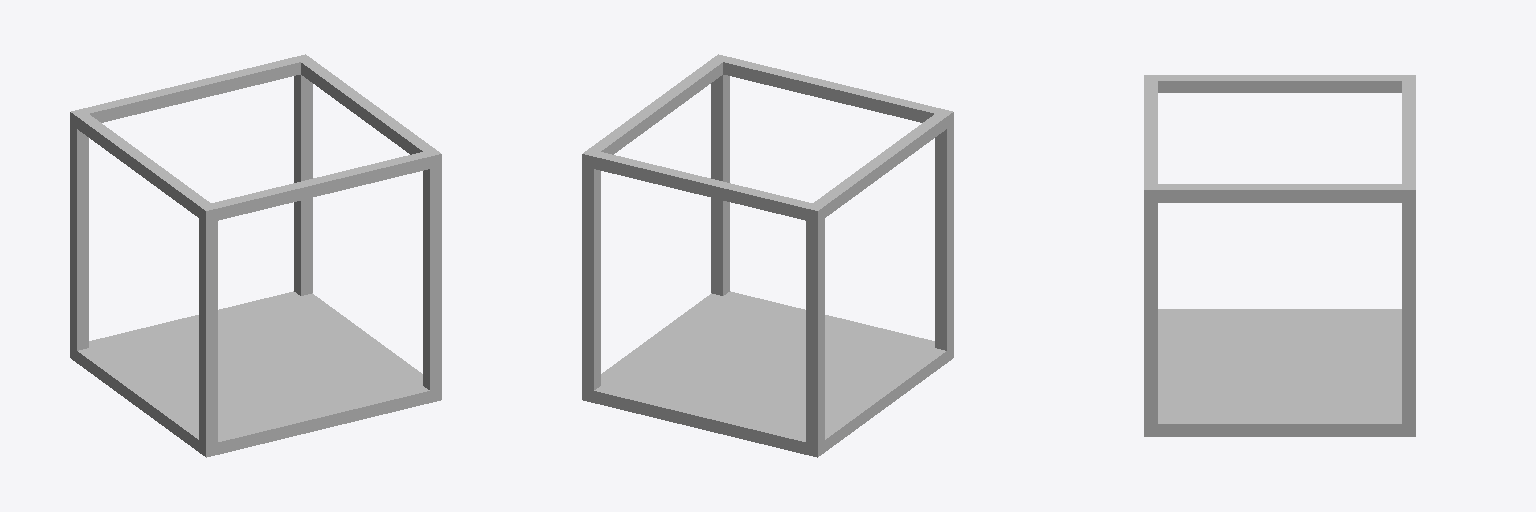
Rendered from wirecube.obj.
The picture shows the model from 3 angles: view 1: azimuth 30°, elevation 25°; view 2: azimuth 150°, elevation 25°; view 3: azimuth 270°, elevation 25°; orthographic projection.
Visible parts, largest first — view 1: wirecube; view 2: wirecube; view 3: wirecube.
Boxes of the visible parts, <box> form: wirecube: <box>70,54,441,457</box>; wirecube: <box>582,54,953,457</box>; wirecube: <box>1144,75,1415,436</box>.
Bounding box in the file's own units: 1 × 1 × 1.